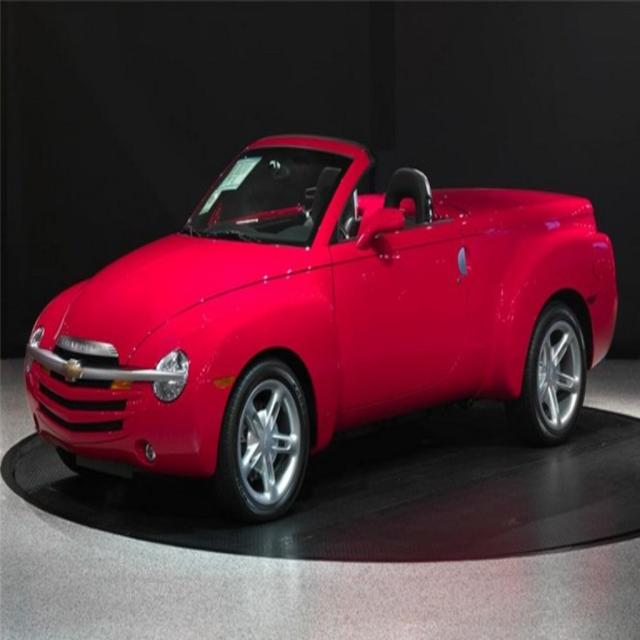car: (20, 127, 618, 526)
